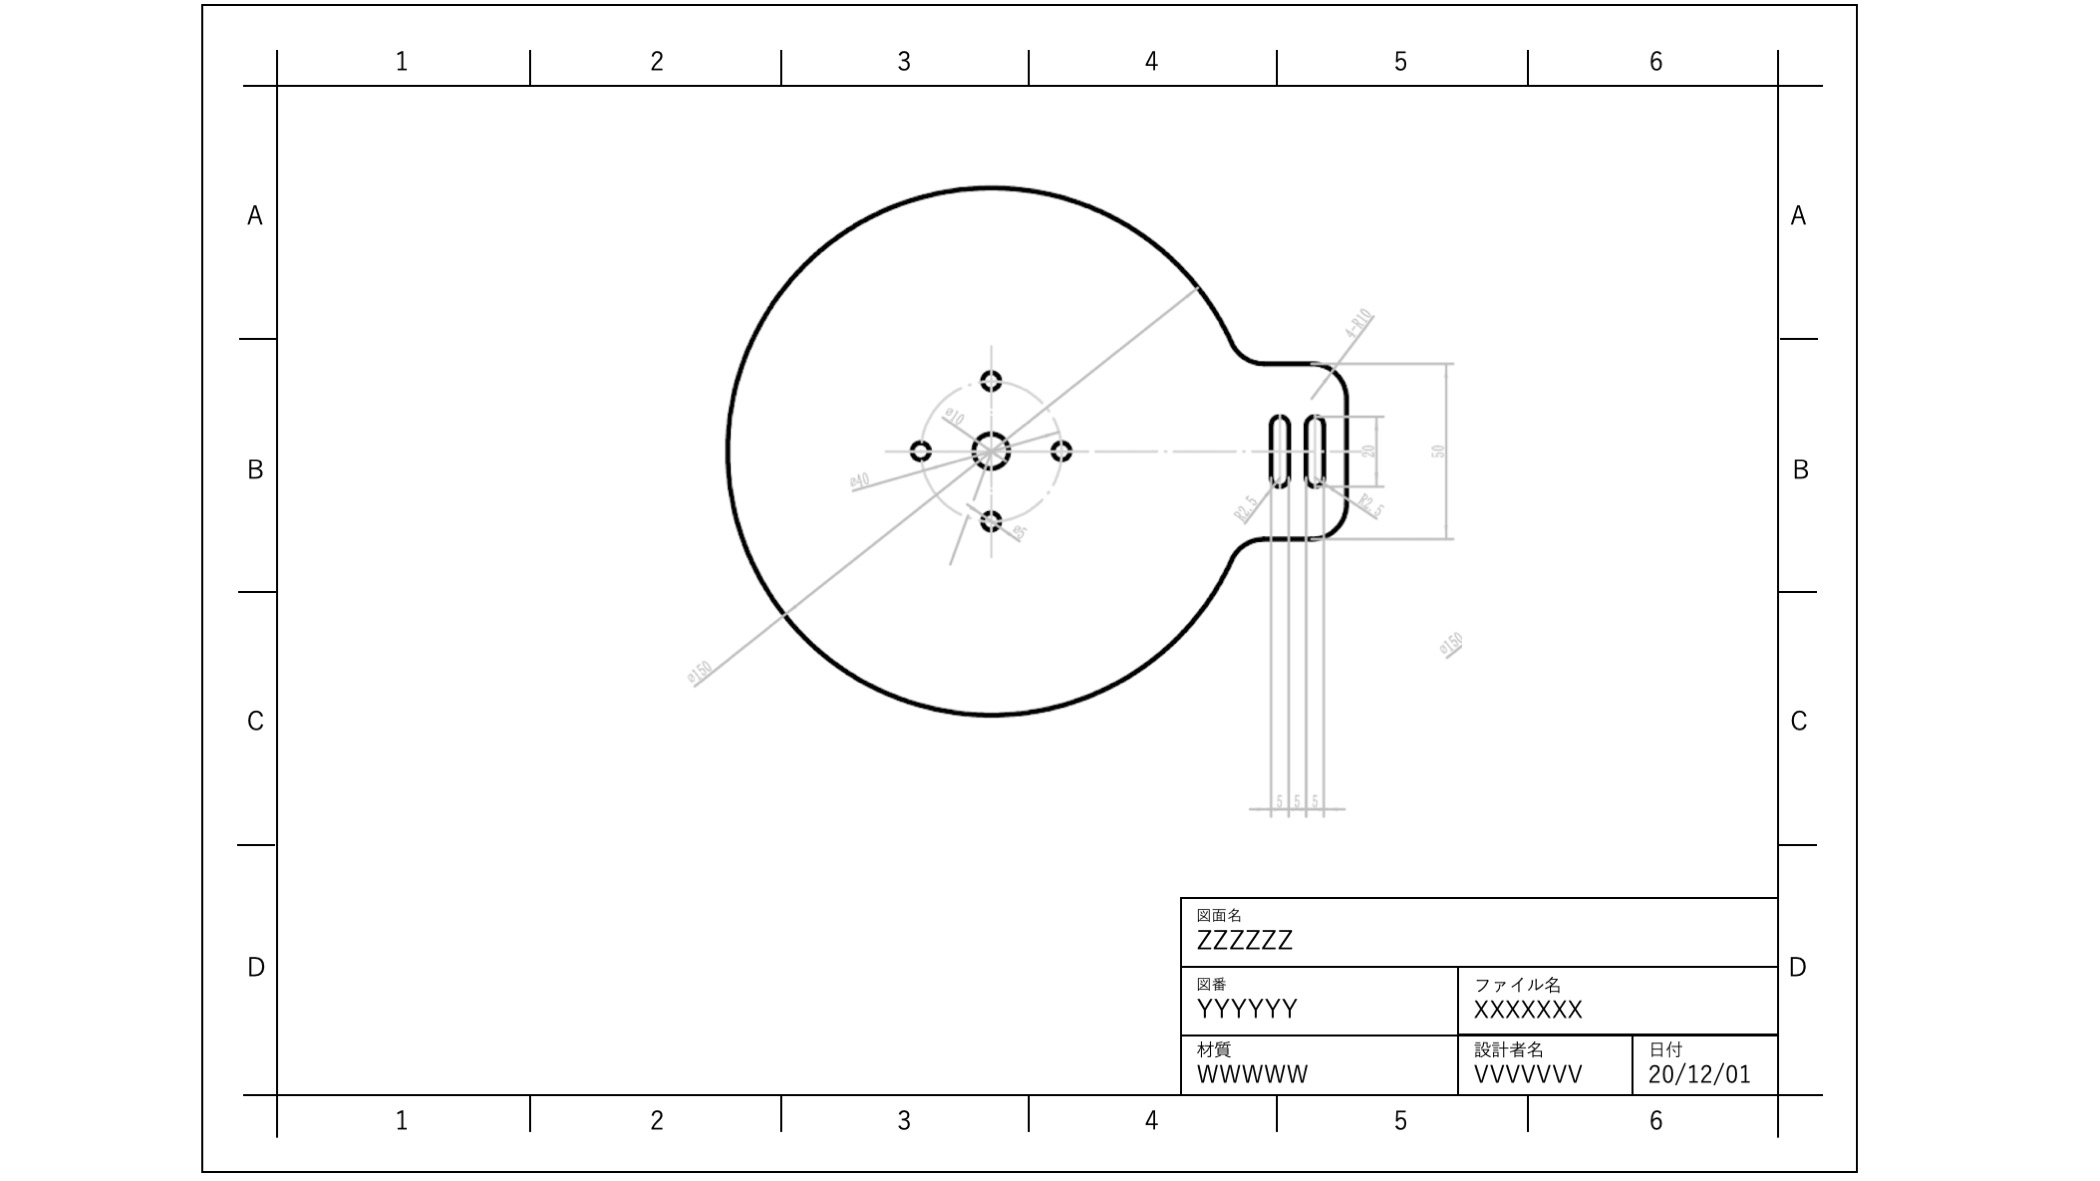circle: (966, 427, 1014, 477), (1046, 425, 1085, 485), (979, 361, 1017, 394), (974, 503, 1005, 541), (907, 430, 930, 461)
round_rectangle: (1302, 405, 1333, 487), (1268, 412, 1292, 492)
